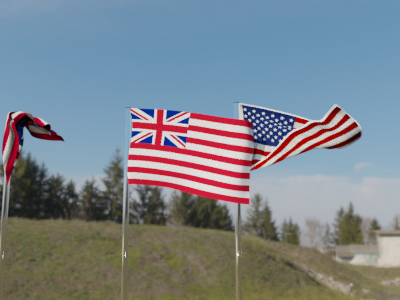America flag: (240, 104, 365, 181)
Liberia flag: (1, 111, 65, 179)
Malaysia flag: (129, 107, 252, 206)
